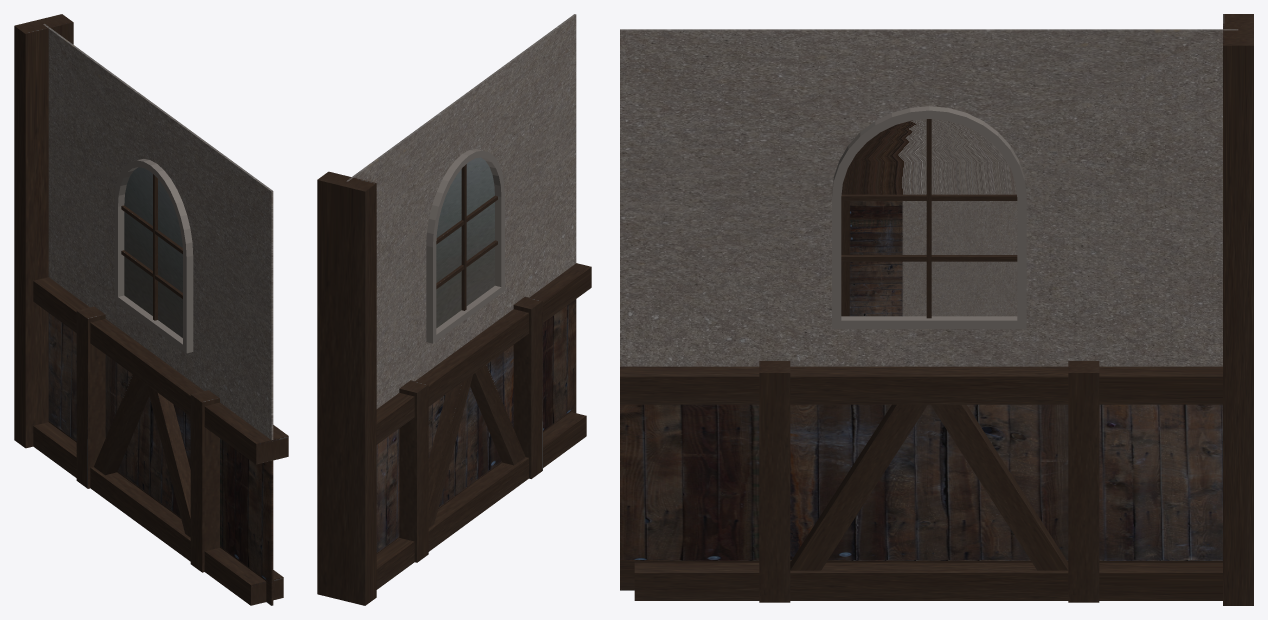
Rendered from OutdoorArchitecture_BasicWall03_Window01_RightEdge_BShortt.fbx.
The picture shows the model from 3 angles, left to right: view 1: azimuth 30°, elevation 25°; view 2: azimuth 150°, elevation 25°; view 3: azimuth 270°, elevation 25°; orthographic projection. The views are drawn at different scales.
Parts seen in each view (by area): view 1: OutdoorArchitecture_BasicWall03_Window01_RightEdge_BShortt; view 2: OutdoorArchitecture_BasicWall03_Window01_RightEdge_BShortt; view 3: OutdoorArchitecture_BasicWall03_Window01_RightEdge_BShortt.
Boxes of the visible parts, x1,y1,x2,y2 form: OutdoorArchitecture_BasicWall03_Window01_RightEdge_BShortt: (14, 14, 288, 605); OutdoorArchitecture_BasicWall03_Window01_RightEdge_BShortt: (317, 14, 591, 605); OutdoorArchitecture_BasicWall03_Window01_RightEdge_BShortt: (620, 14, 1253, 605).
Size of the model in its own units: 36.37 by 300 by 308.
